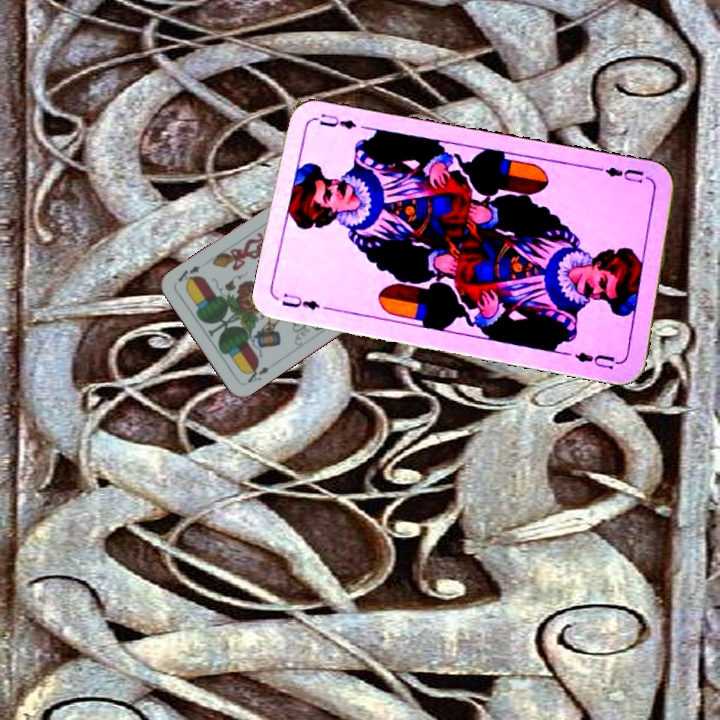EA: (241, 360, 272, 386)
EU: (596, 163, 654, 186), (277, 289, 322, 313)
